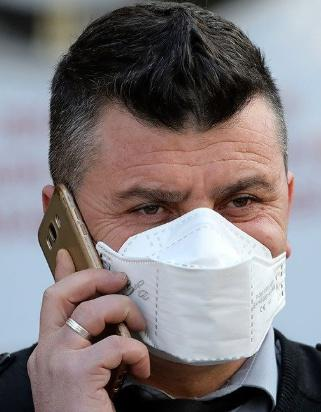OK: (92, 153, 284, 372)
